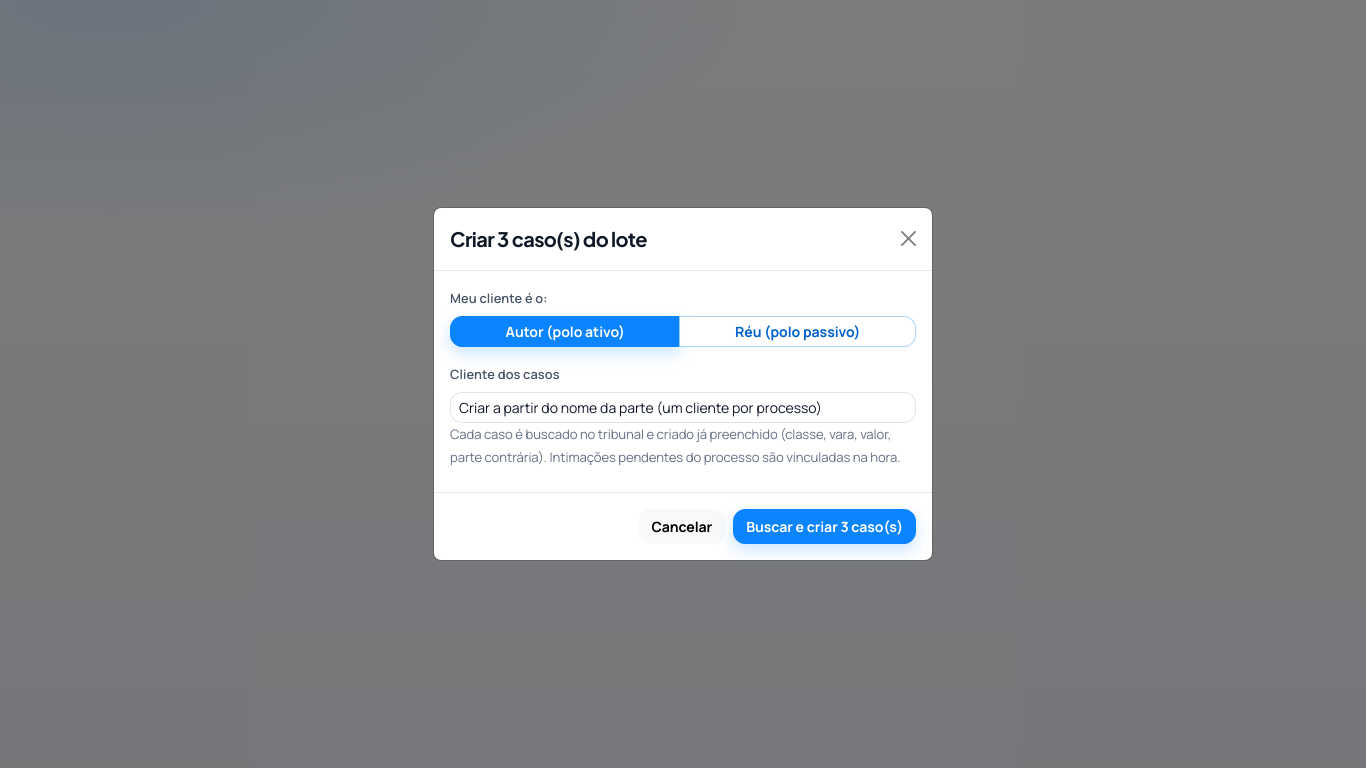
Test case: CriarCasosLoteModal (#320) › cria sequencialmente, pula já cadastrado e reporta erro por item
This screenshot has width=1366, height=768.
Step 1. Click the button with test id "btn-executar-lote" → click(825, 527), box [733,509,916,544]
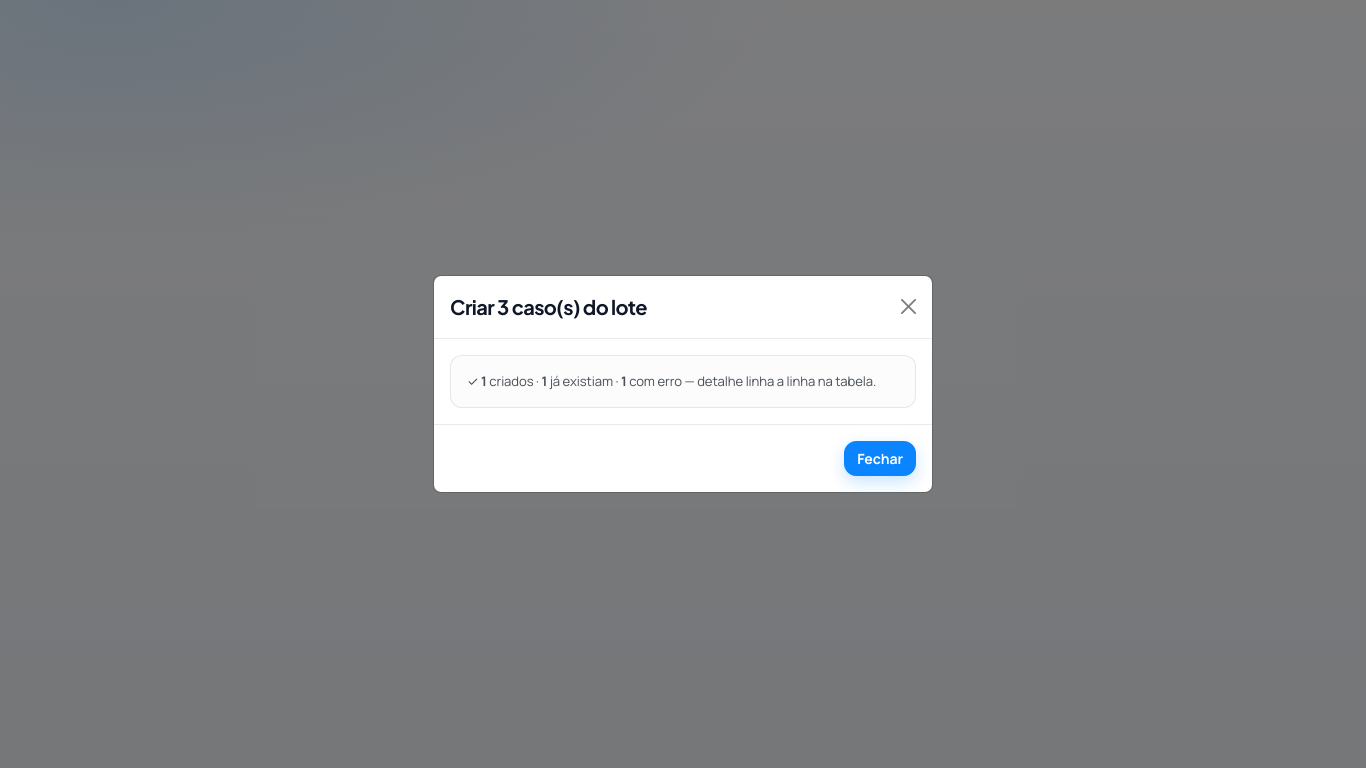
expect the element with test id "lote-resumo" shows "1": met, box [481,372,487,390]
